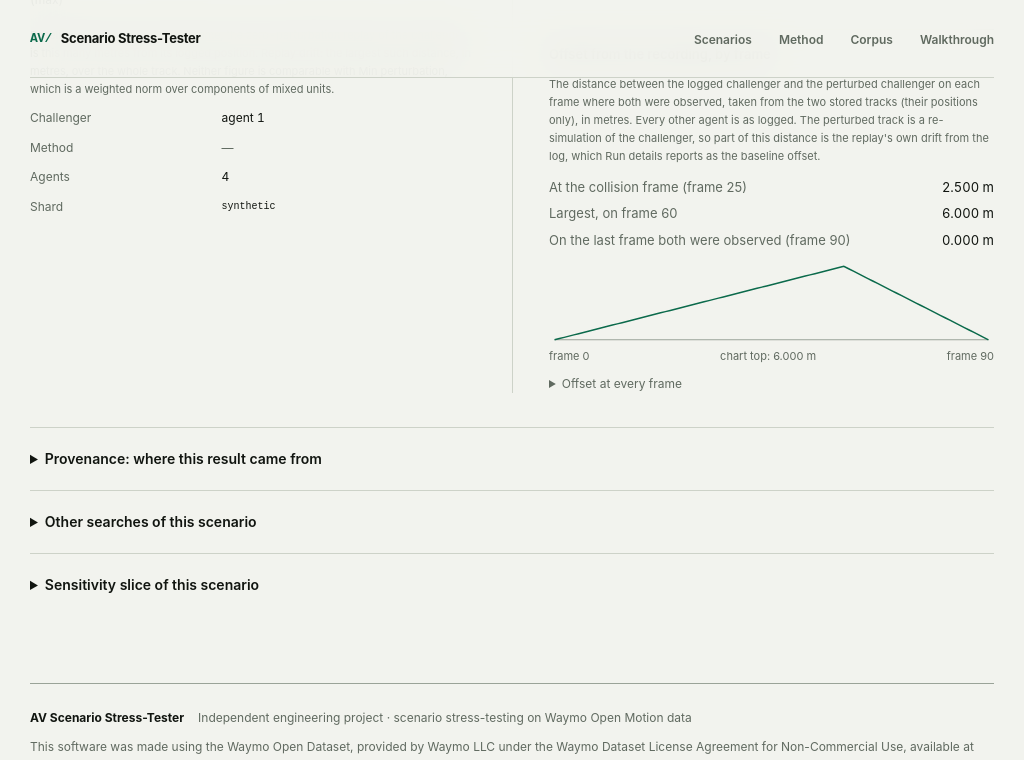
Test: the offset by frame › lists the offset on every shared frame in a table that opens on request
(page scrolled)
Click the heading "Offset at every frame".
click(622, 383)  # box [562,376,682,391]
(page scrolled)
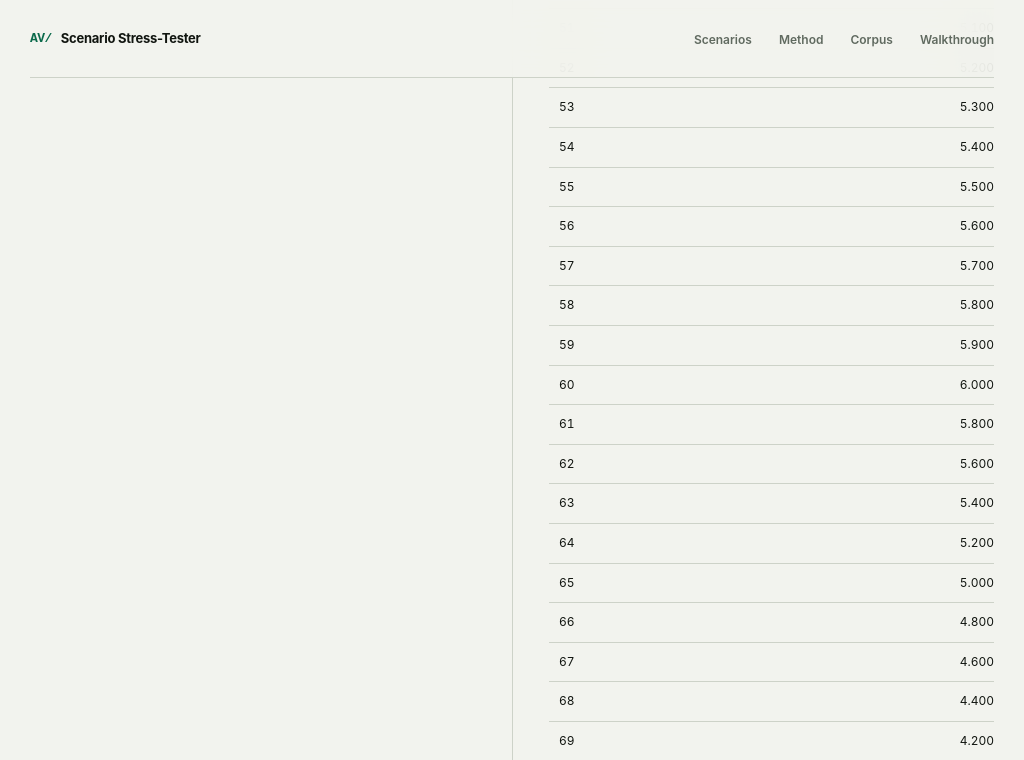
Expected: the row "60 6.000" is shown, [549,365,994,405]
